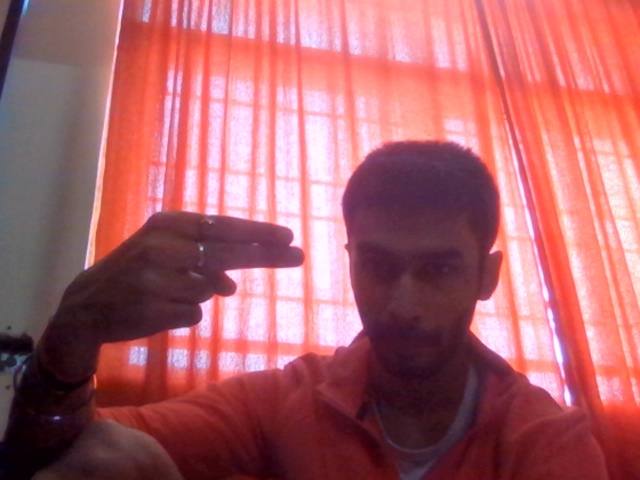H: (43, 187, 336, 391)
